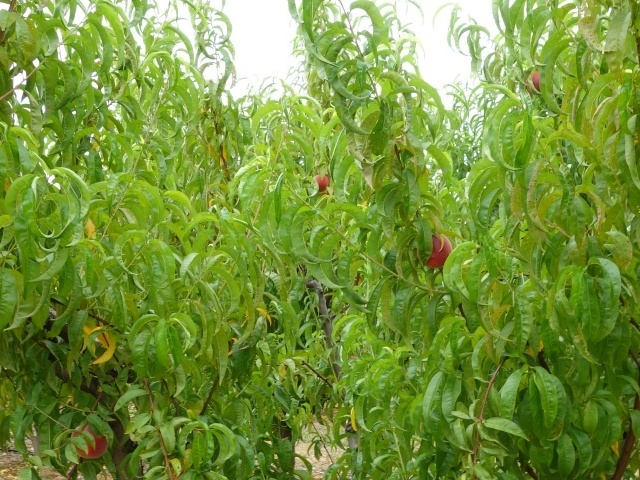peach: (66, 421, 111, 462), (413, 230, 456, 267), (521, 70, 546, 93), (308, 172, 331, 196)
